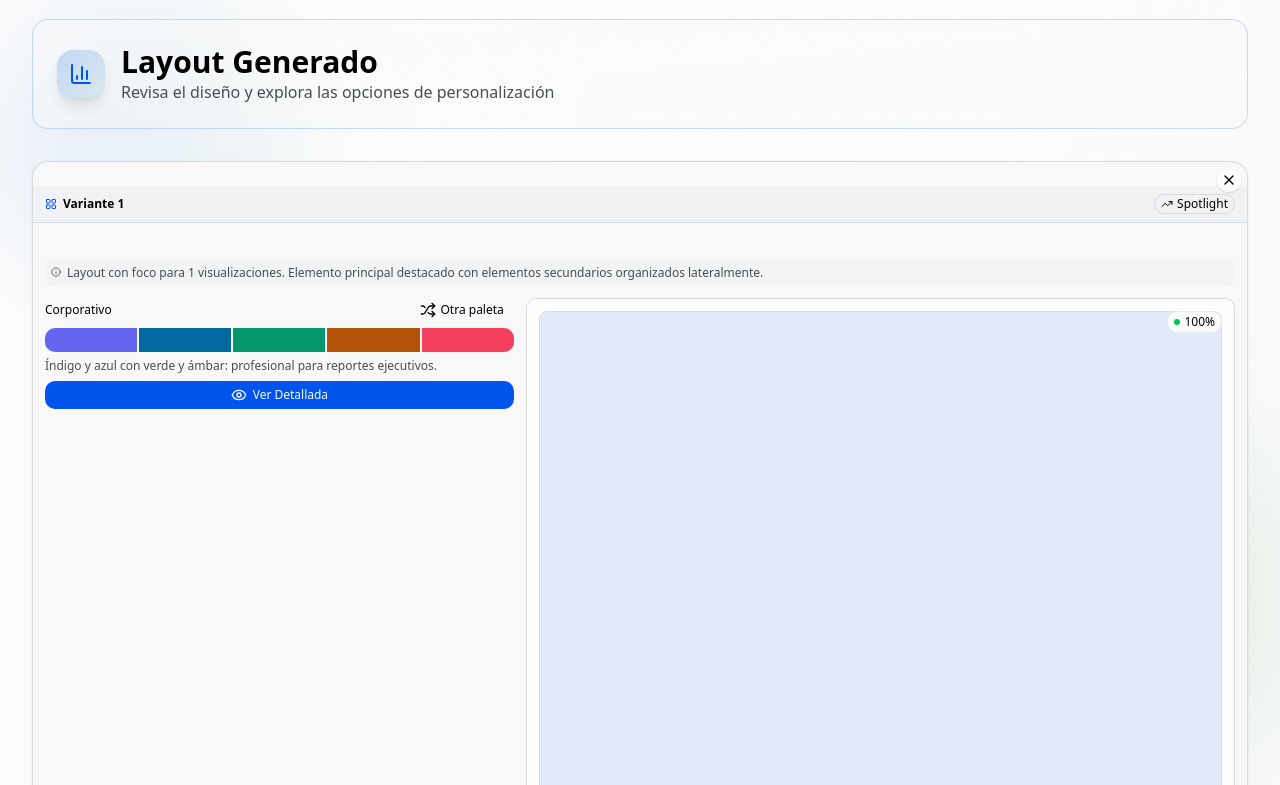
it: DashboardGenerator navigation › opens the detail view for the current variant and goes back
(page scrolled)
What coordinates should you click on to do the following:
click the button "Ver Detallada"
I would click on:
 (279, 395)
Its box is [45,381,514,409].
(page scrolled)
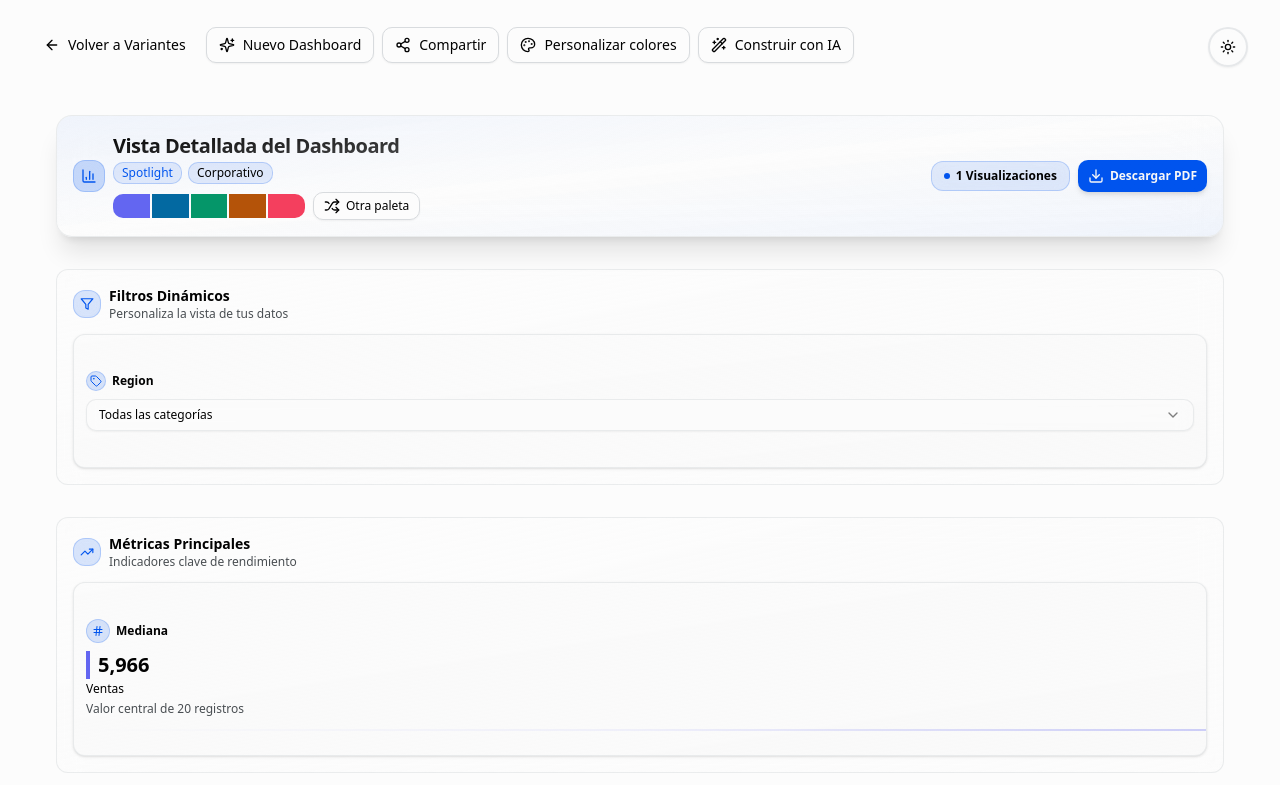
Expected: the button "Descargar PDF" is shown, [1078,160,1207,192]
What coordinates should you click on to do the following:
click the button "Volver a Variantes"
I would click on:
 (115, 45)
Its box is [32,27,198,63].
(page scrolled)
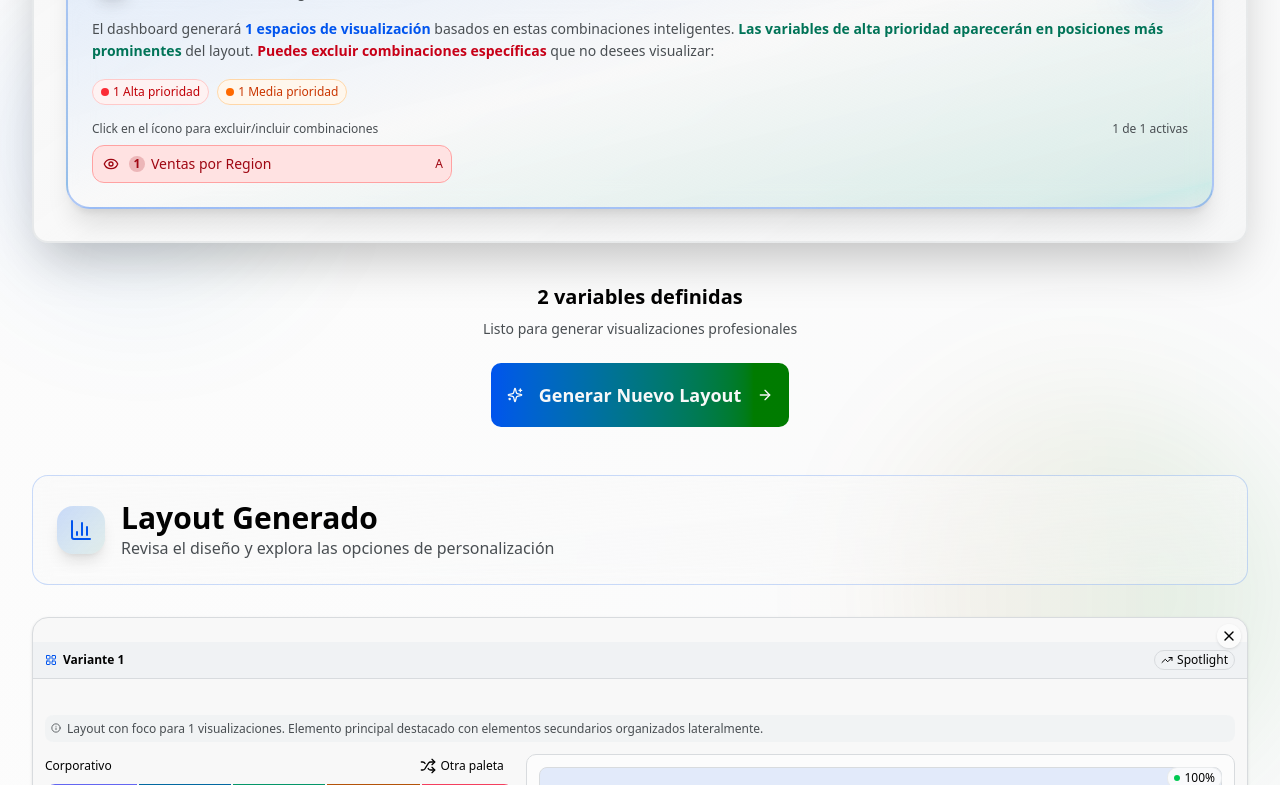
Expected: the button "Generar Nuevo Layout" is shown, [491,363,789,427]
